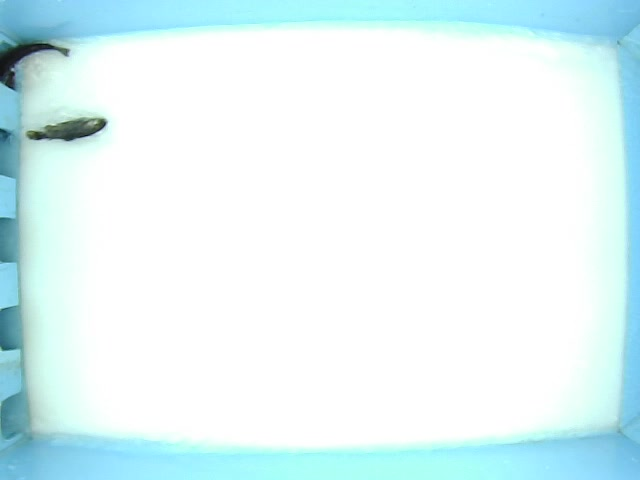fish: (26, 113, 106, 143)
